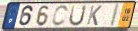6: (18, 4, 34, 27), (35, 5, 50, 28)
C: (51, 4, 70, 27)
I: (108, 3, 121, 28)
K: (85, 5, 103, 27)
U: (68, 4, 88, 27)
